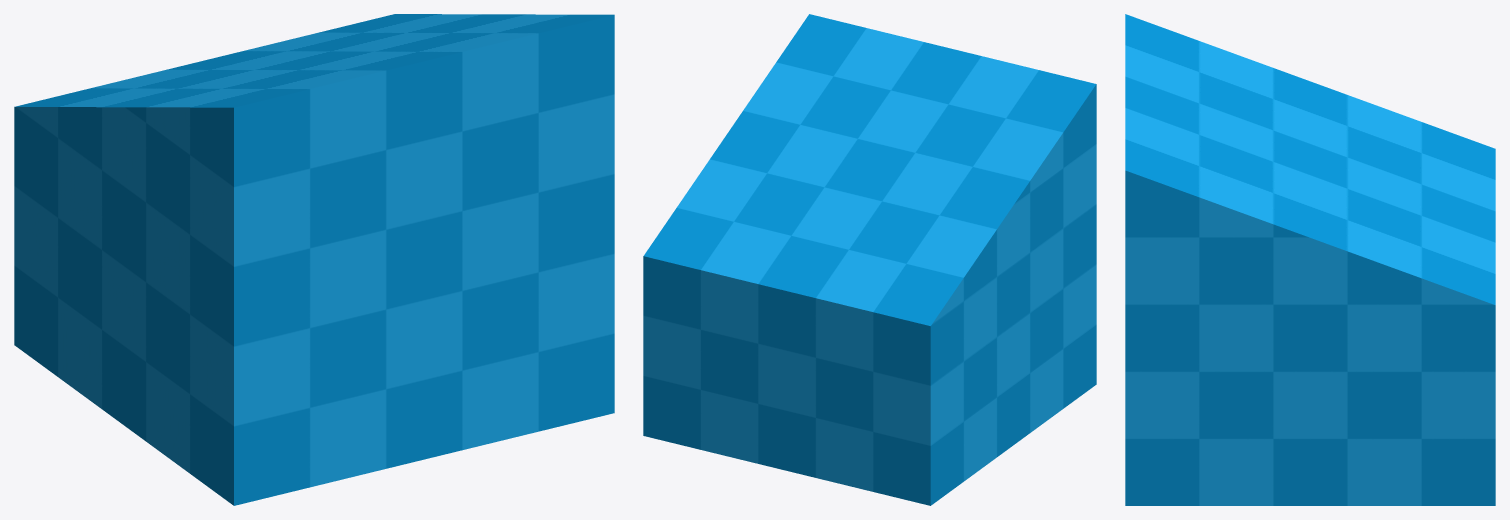
File: ClippedCube1040.FBX
3 renders of one model, left to right at view 1: azimuth 30°, elevation 25°; view 2: azimuth 150°, elevation 25°; view 3: azimuth 270°, elevation 25°, orthographic. The views are drawn at different scales.
Visible parts, largest first — view 1: ClippedCube; view 2: ClippedCube; view 3: ClippedCube.
Boxes of the visible parts, x1=… form: ClippedCube: x1=14, y1=14, x2=614, y2=505; ClippedCube: x1=643, y1=14, x2=1096, y2=505; ClippedCube: x1=1125, y1=14, x2=1495, y2=505.
Bounding box in the file's own units: 150 × 150 × 150.
